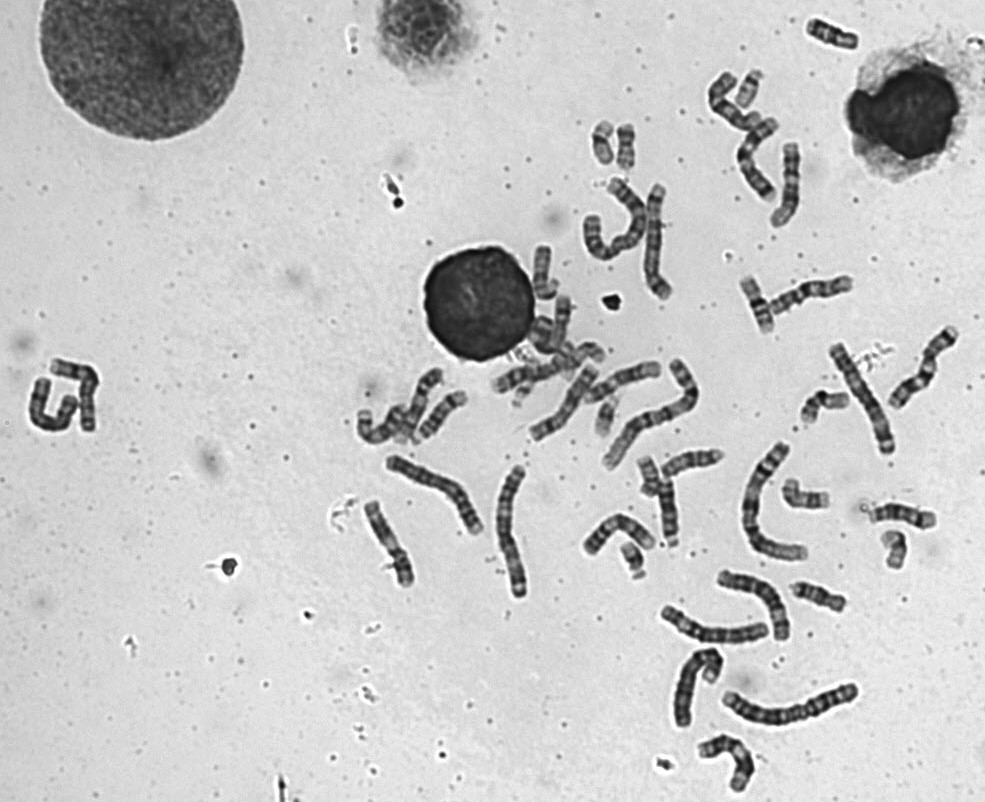chromosomes: (595, 351, 708, 475), (736, 436, 815, 565), (382, 451, 493, 542), (823, 337, 900, 464), (720, 673, 867, 732), (885, 318, 963, 416), (576, 171, 654, 267), (490, 459, 540, 606), (711, 562, 796, 646), (654, 597, 773, 650), (358, 494, 420, 595), (528, 362, 603, 444), (666, 644, 732, 733), (732, 111, 788, 214), (638, 177, 681, 304), (486, 338, 577, 398), (766, 136, 819, 237), (695, 733, 775, 798), (699, 66, 774, 135), (390, 362, 449, 447), (47, 351, 104, 436), (582, 355, 667, 407), (767, 268, 861, 314), (578, 508, 661, 560), (412, 386, 472, 453), (517, 290, 576, 358), (25, 374, 84, 438), (732, 266, 782, 339), (799, 9, 871, 55), (798, 380, 858, 432), (351, 400, 415, 448), (658, 443, 734, 483), (867, 496, 941, 533), (788, 578, 853, 620), (657, 476, 688, 557), (775, 475, 840, 513), (728, 62, 770, 114), (531, 239, 564, 303), (873, 528, 916, 576), (615, 538, 656, 588), (510, 344, 540, 411), (613, 116, 647, 173), (585, 114, 618, 172), (562, 339, 610, 375), (633, 450, 664, 499), (593, 390, 623, 439)
